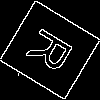R: (25, 25, 83, 81)
